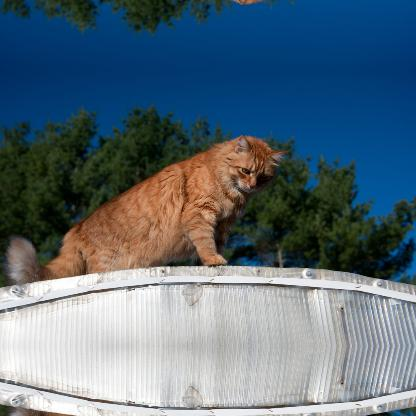Cat: (8, 131, 290, 285)
